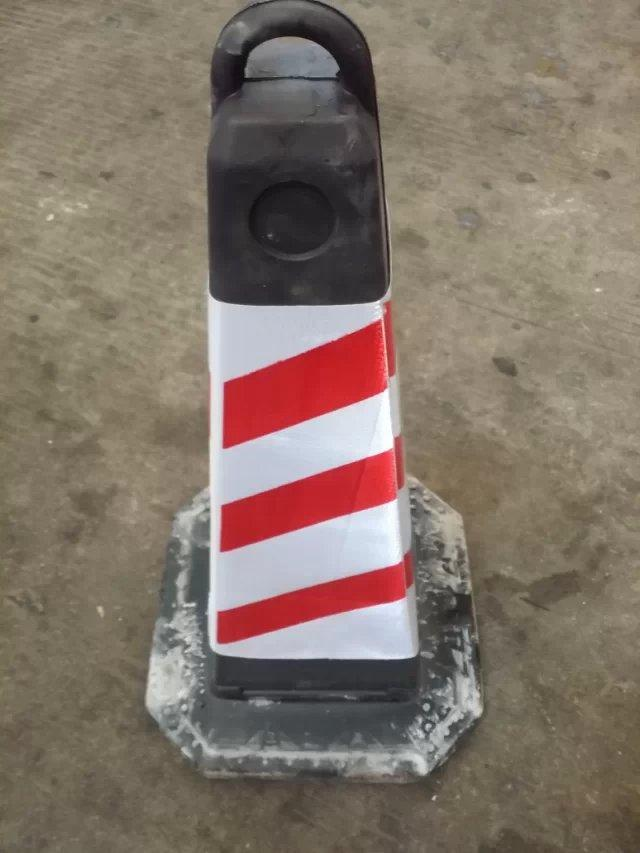sign: (130, 9, 499, 790)
